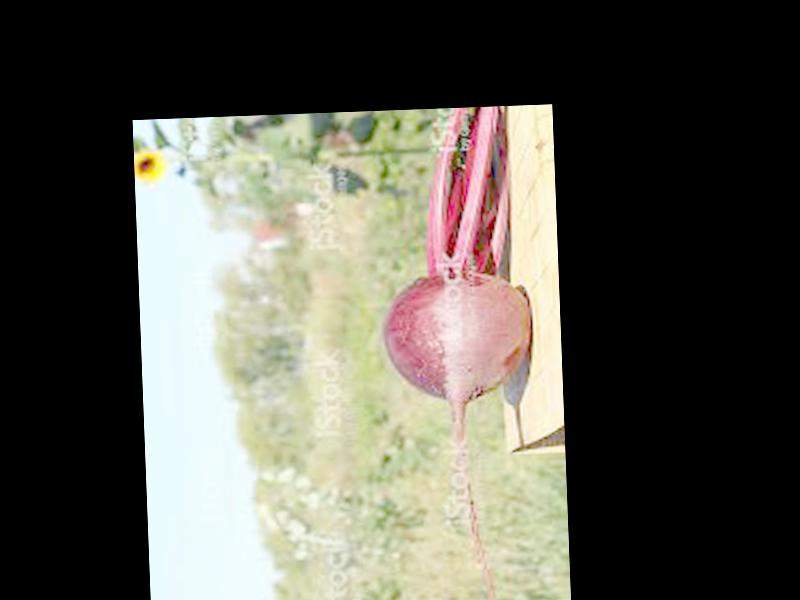Beet: (375, 105, 543, 600)
